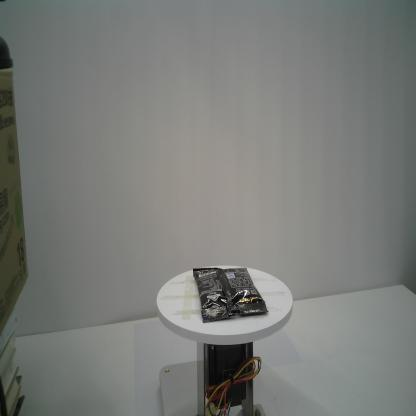Instant Drink: (193, 268, 269, 324)
